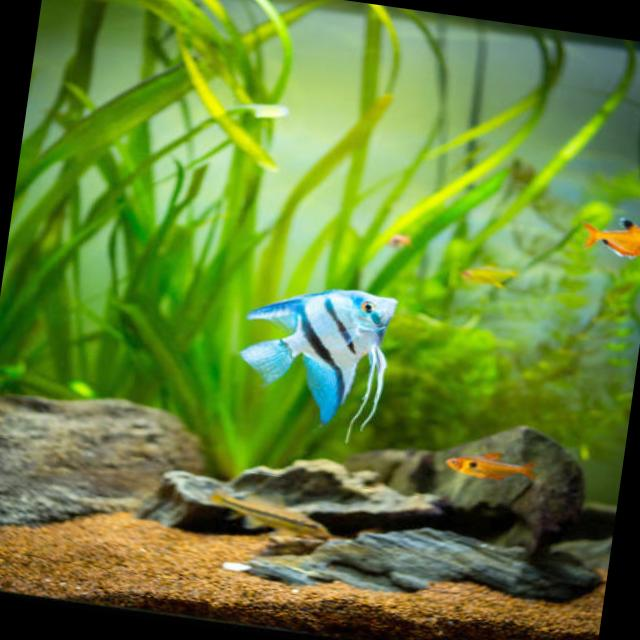AngelFish: (234, 270, 401, 437)
